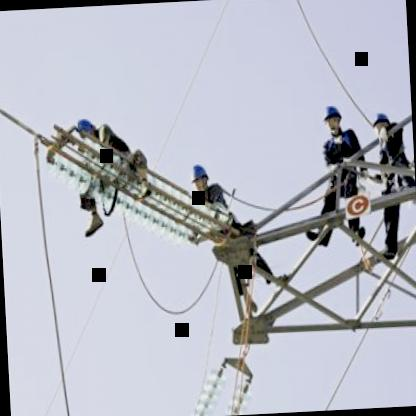helmet: (316, 102, 349, 144), (74, 112, 104, 148), (186, 157, 212, 192), (371, 107, 392, 138)
